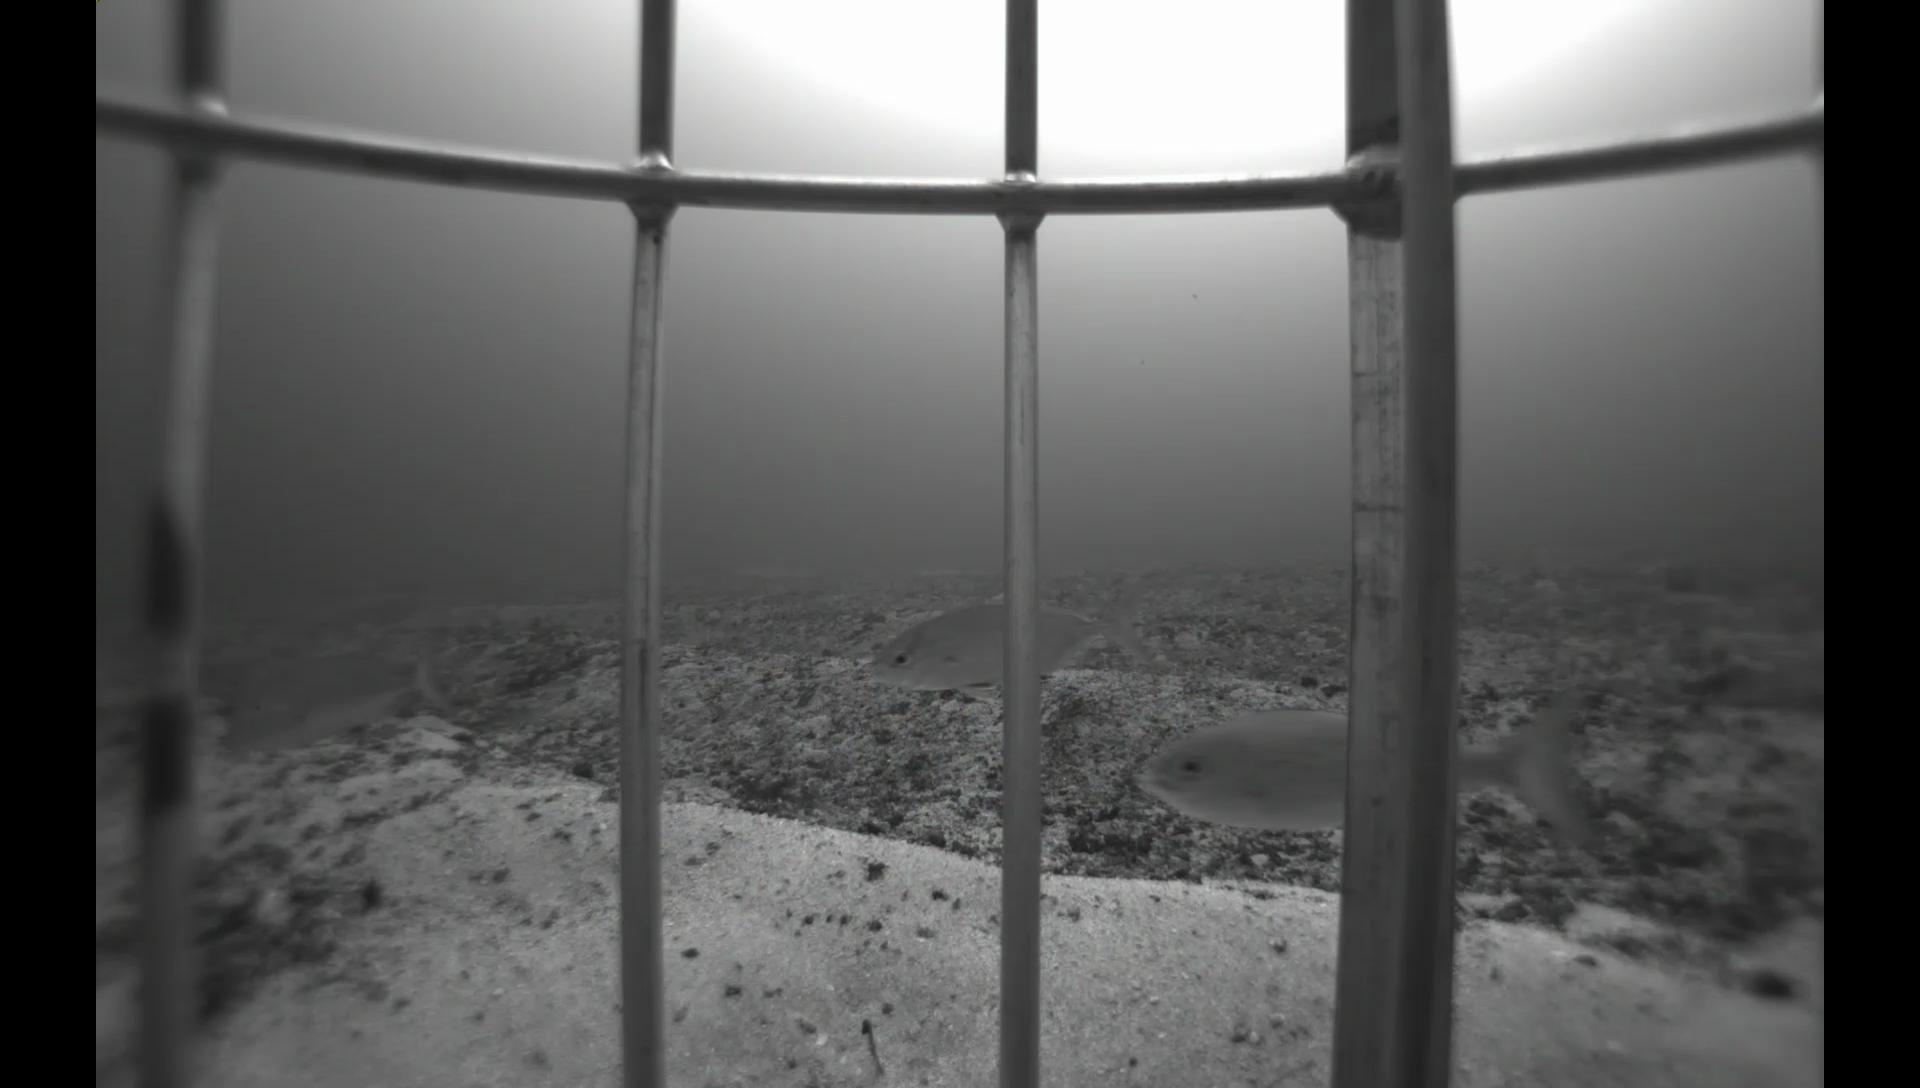CALAMUSPRORIDENS-170210605: (219, 634, 462, 760)
RHOMBOPLITESAURORUBENS-170152001: (1125, 675, 1621, 845)
SERIOLAFASCIATA-170113103: (851, 572, 1160, 706)
